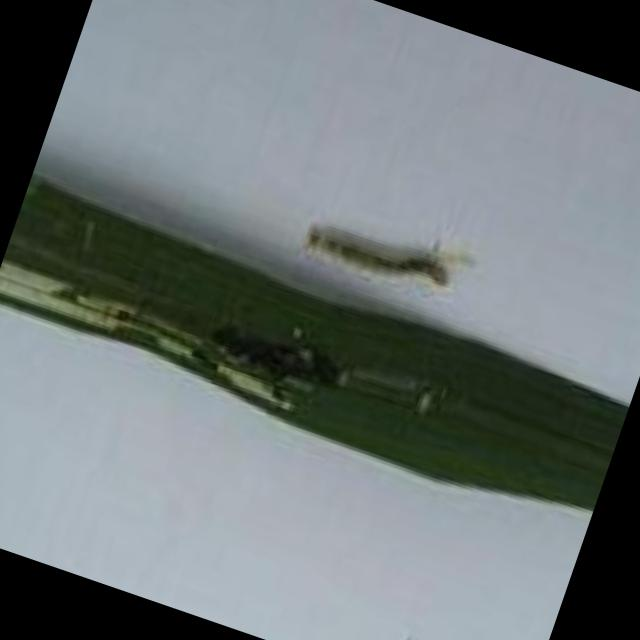leaf-folder: (272, 176, 499, 340)
